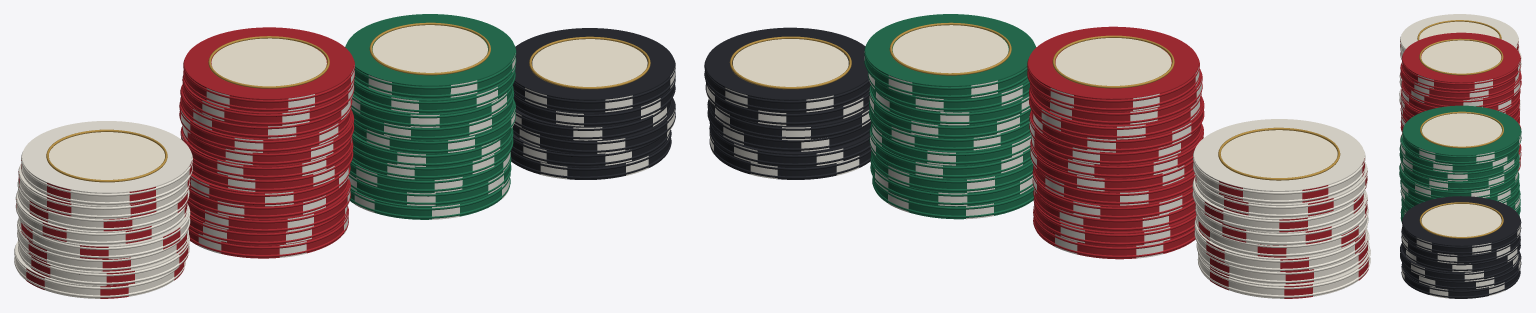
The model's file is poker-chips-player-set.glb.
3 renders of one model, left to right at view 1: azimuth 30°, elevation 25°; view 2: azimuth 150°, elevation 25°; view 3: azimuth 270°, elevation 25°, orthographic. The views are drawn at different scales.
Visible parts, largest first — view 1: chip_body (×36), rim_groove (×71), face_inlay (×4), inlay_ring (×4); view 2: chip_body (×36), rim_groove (×72), face_inlay (×4), inlay_ring (×4); view 3: chip_body (×19), rim_groove (×34), face_inlay (×4), inlay_ring (×4), edge_spot_1 (×7), edge_spot_0 (×6), edge_spot_5 (×5), edge_spot_2 (×4), edge_spot_3 (×3), edge_spot_4 (×2).
Boxes of the visible parts, box(x1,y1,x2,y2) form: chip_body (×36): box(15, 14, 674, 298); rim_groove (×71): box(14, 45, 675, 297); face_inlay (×4): box(49, 25, 647, 179); inlay_ring (×4): box(46, 22, 650, 182); chip_body (×36): box(705, 14, 1369, 298); rim_groove (×72): box(704, 44, 1370, 297); face_inlay (×4): box(733, 25, 1337, 177); inlay_ring (×4): box(729, 22, 1340, 180); chip_body (×19): box(1400, 14, 1520, 298); rim_groove (×34): box(1399, 54, 1521, 298); face_inlay (×4): box(1419, 21, 1501, 236); inlay_ring (×4): box(1417, 20, 1503, 238); edge_spot_1 (×7): box(1418, 75, 1510, 271); edge_spot_0 (×6): box(1416, 89, 1504, 295); edge_spot_5 (×5): box(1414, 82, 1511, 298); edge_spot_2 (×4): box(1415, 79, 1507, 197); edge_spot_3 (×3): box(1411, 98, 1489, 276); edge_spot_4 (×2): box(1419, 270, 1483, 286).
Size of the model in its own units: 0.1695 by 0.0411 by 0.0405.
